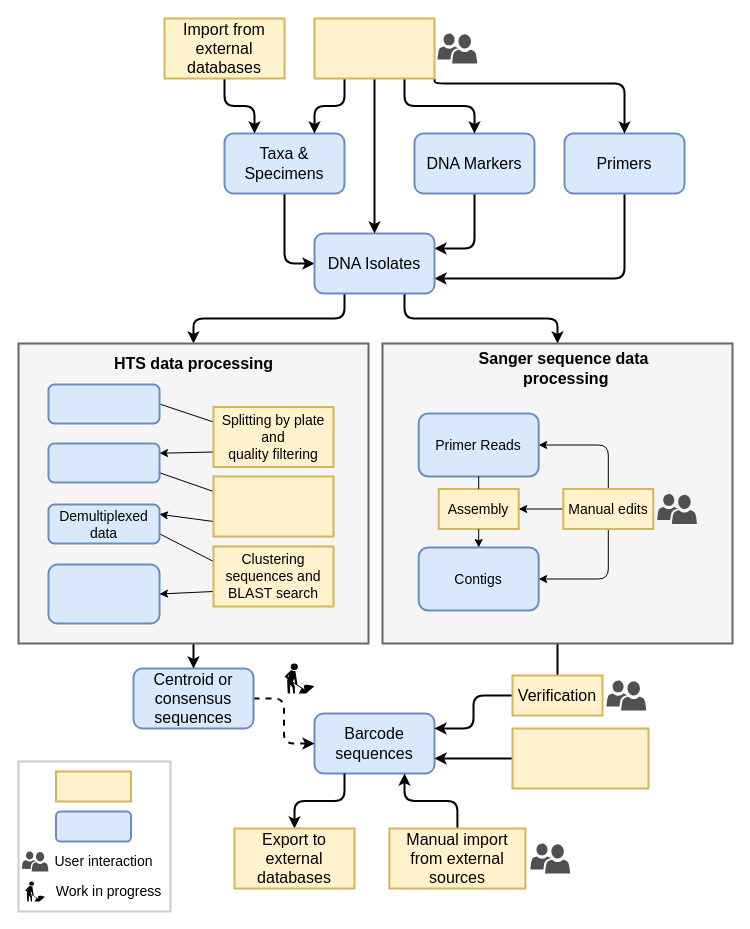
The diagram is 750 pixels wide and 929 high, and some of its shapes have lost their labels. Each missing label, with the box of its shape:
Assign sample ID based on barcodes/primers: (212, 475, 334, 537)
Clusters with taxonomic assignment: (47, 563, 160, 624)
Data: (54, 810, 132, 842)
Manual curation or bulk import: (313, 17, 435, 79)
Pre-processed data: (47, 442, 160, 483)
Processes: (54, 770, 132, 802)
Raw HTS Data: (47, 383, 160, 424)
Taxonomy-based mislabel check: (511, 727, 649, 789)
